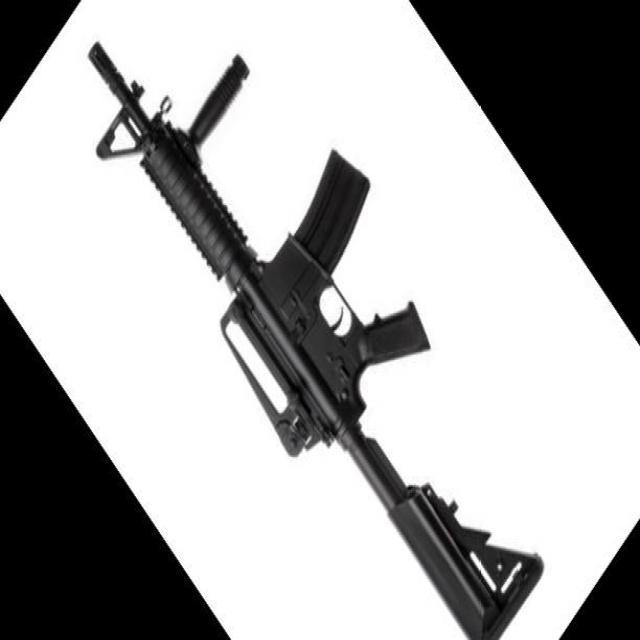weapon: (85, 37, 548, 640)
